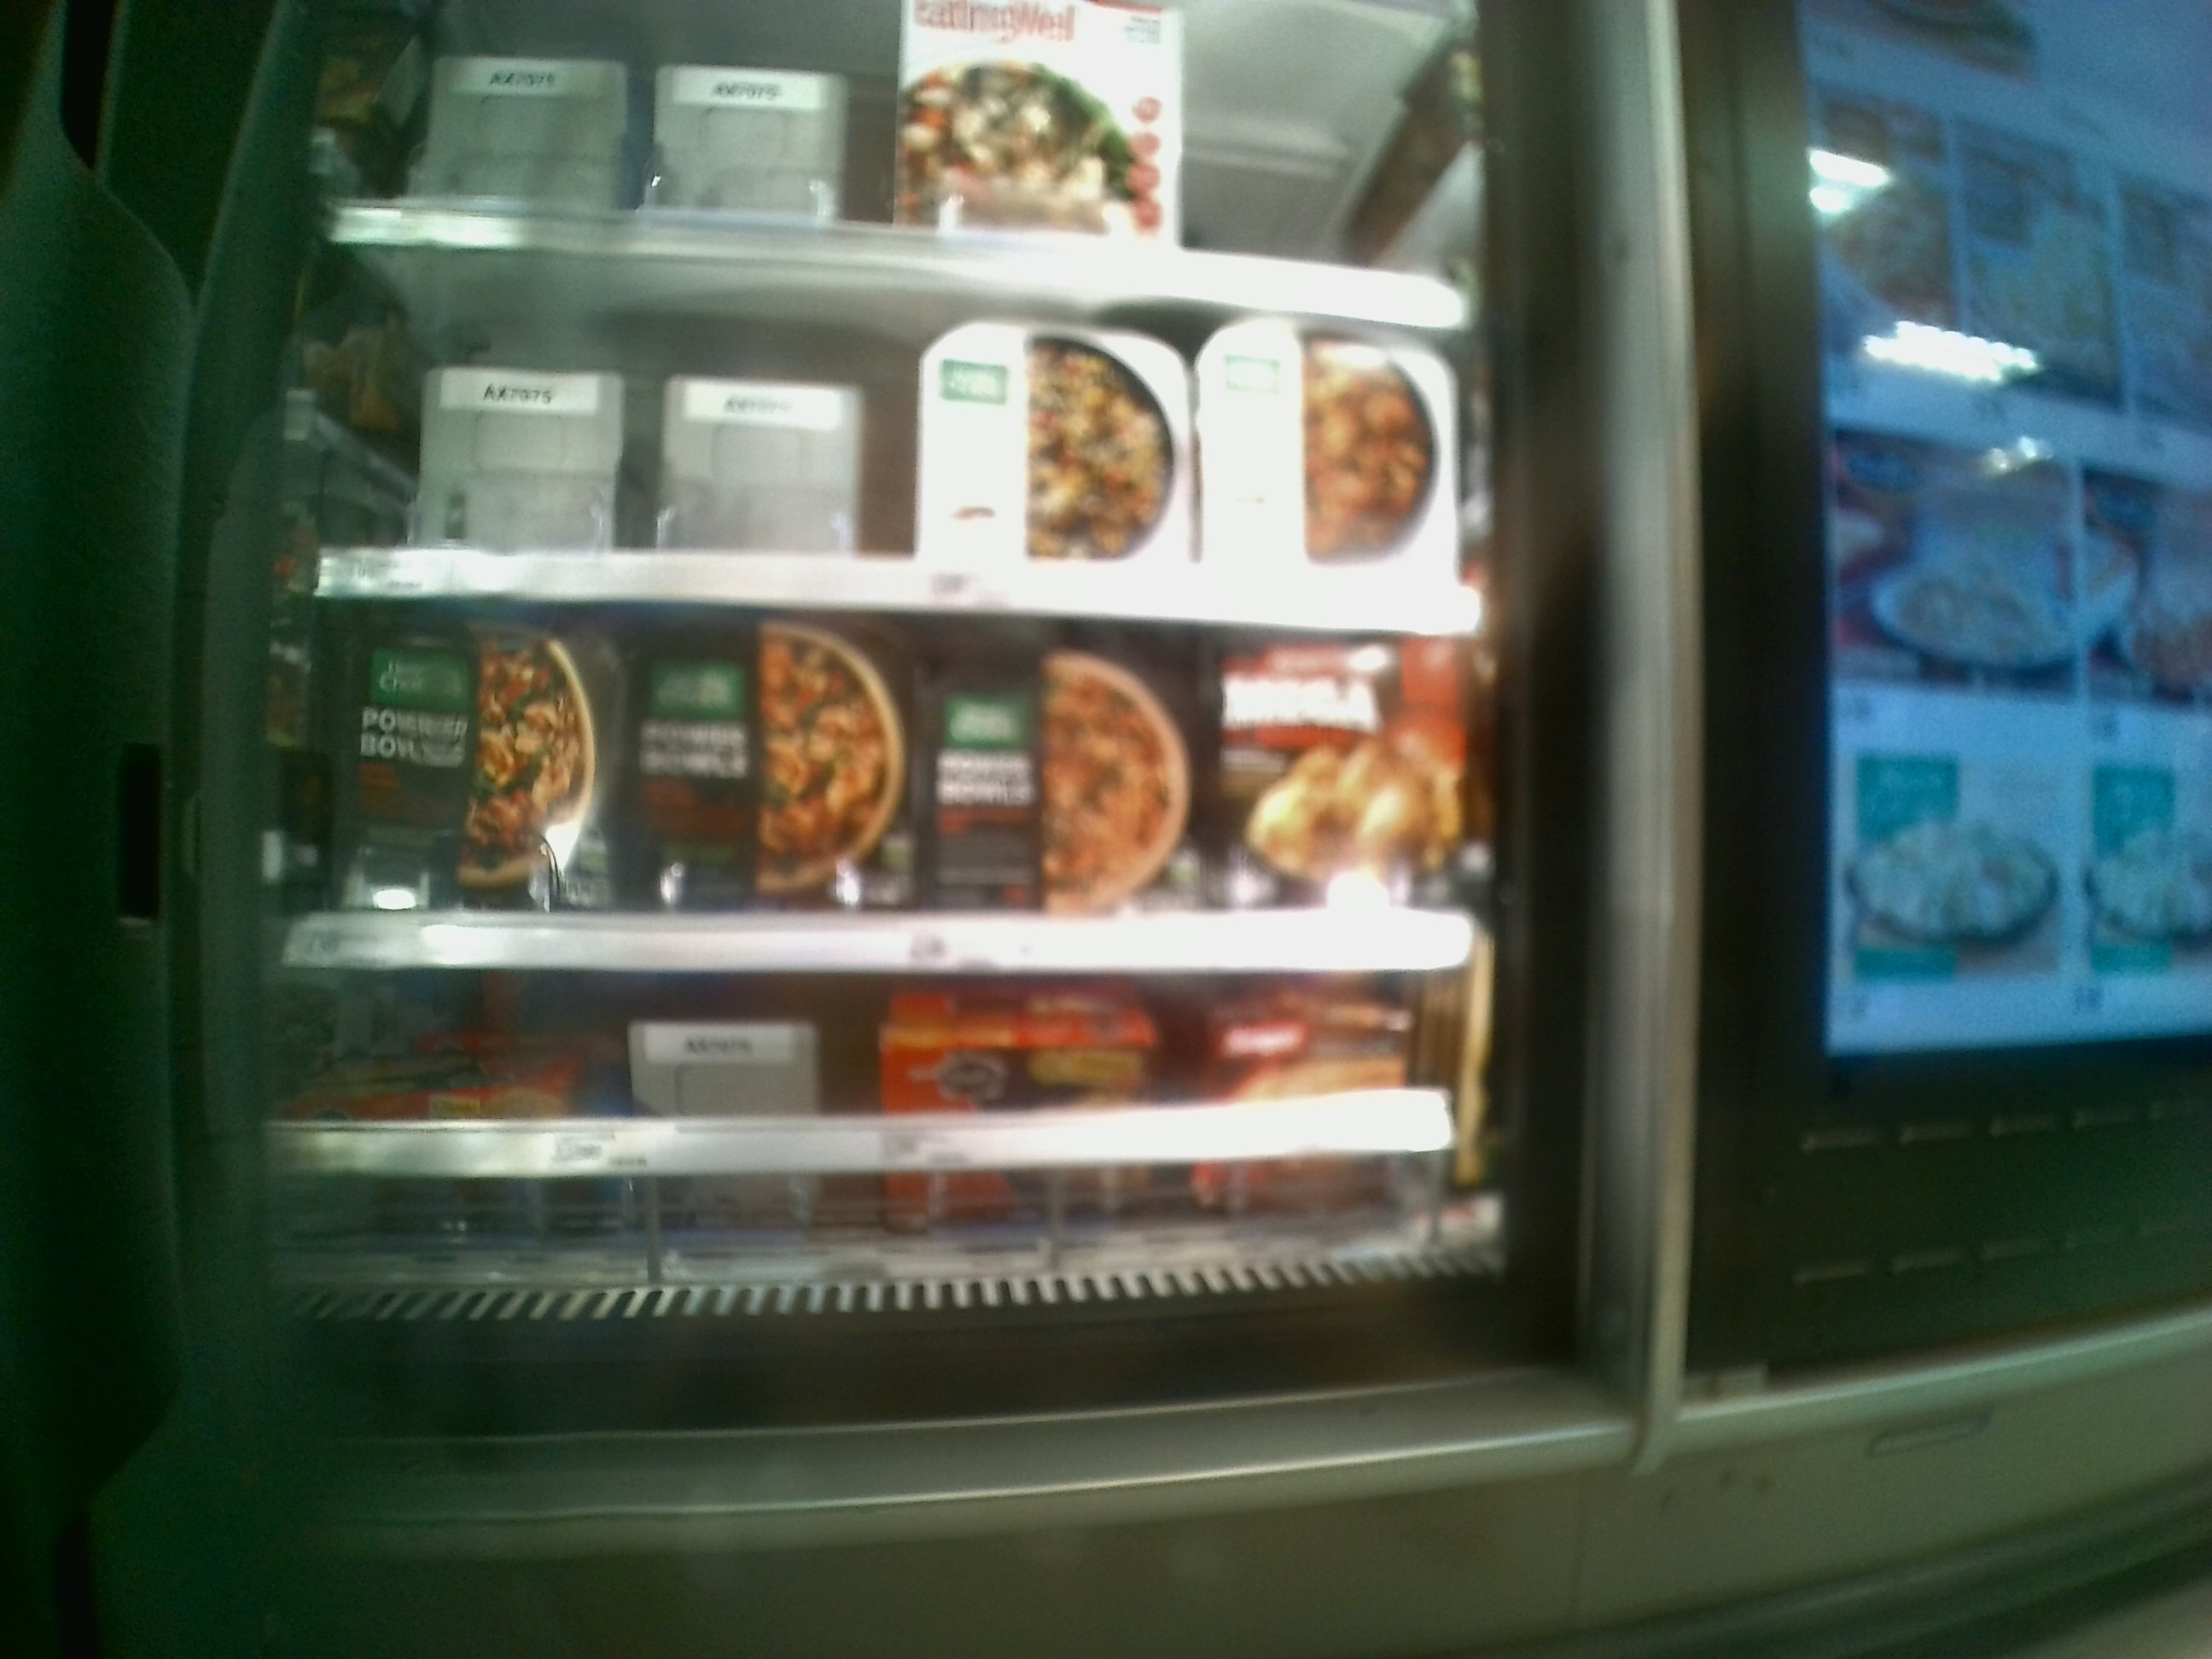Shelf: (251, 978, 1524, 1344), (319, 237, 1496, 626), (296, 598, 1501, 972)
